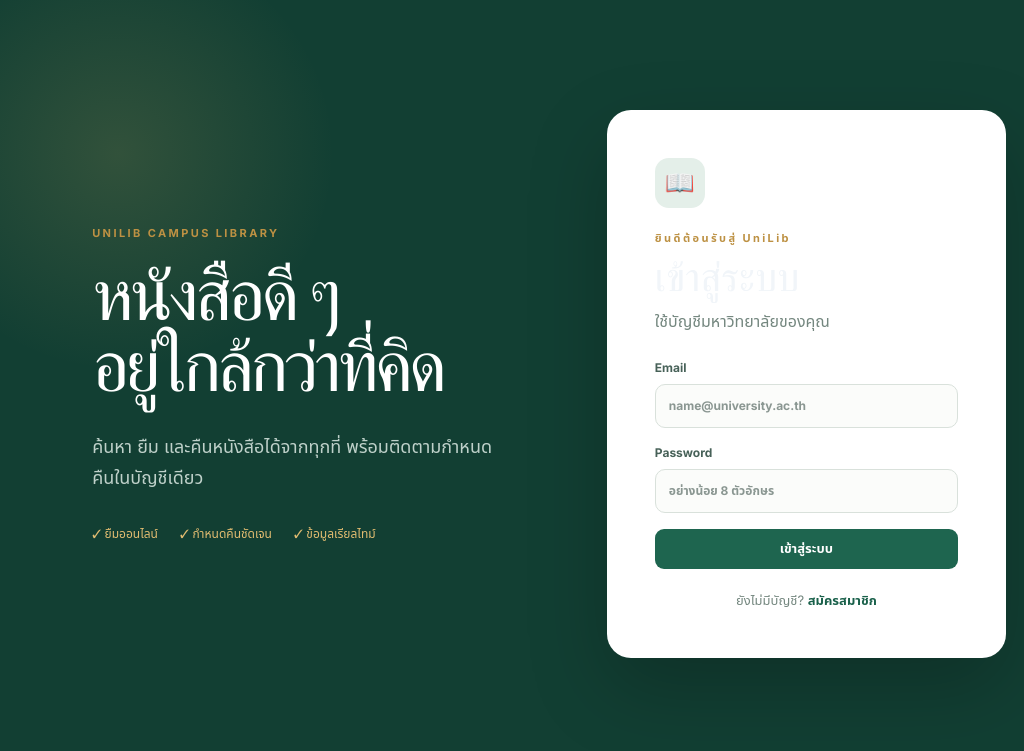
authenticated application › logs a student in and shows role-specific navigation
The width and height of the screenshot is (1024, 751).
Type "ada@uni.ac.th" into the field labelled "Email" at point(806, 406), box [655,384,958,428]
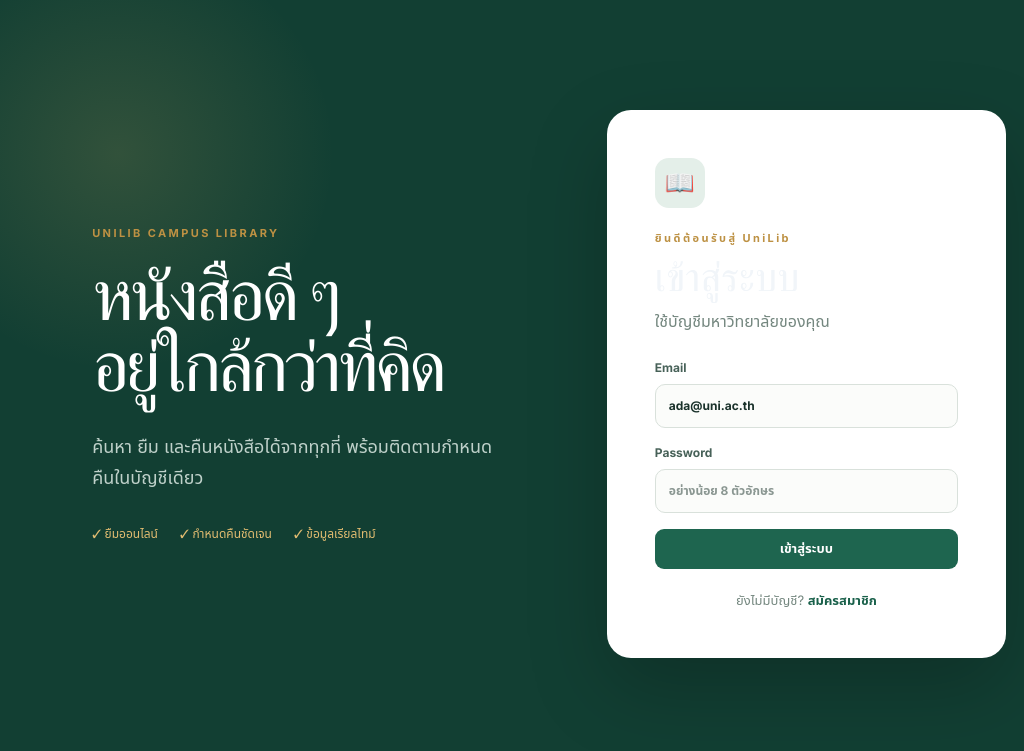
Type "Password123!" into the password field labelled "Password" at point(806, 491), box [655,469,958,513]
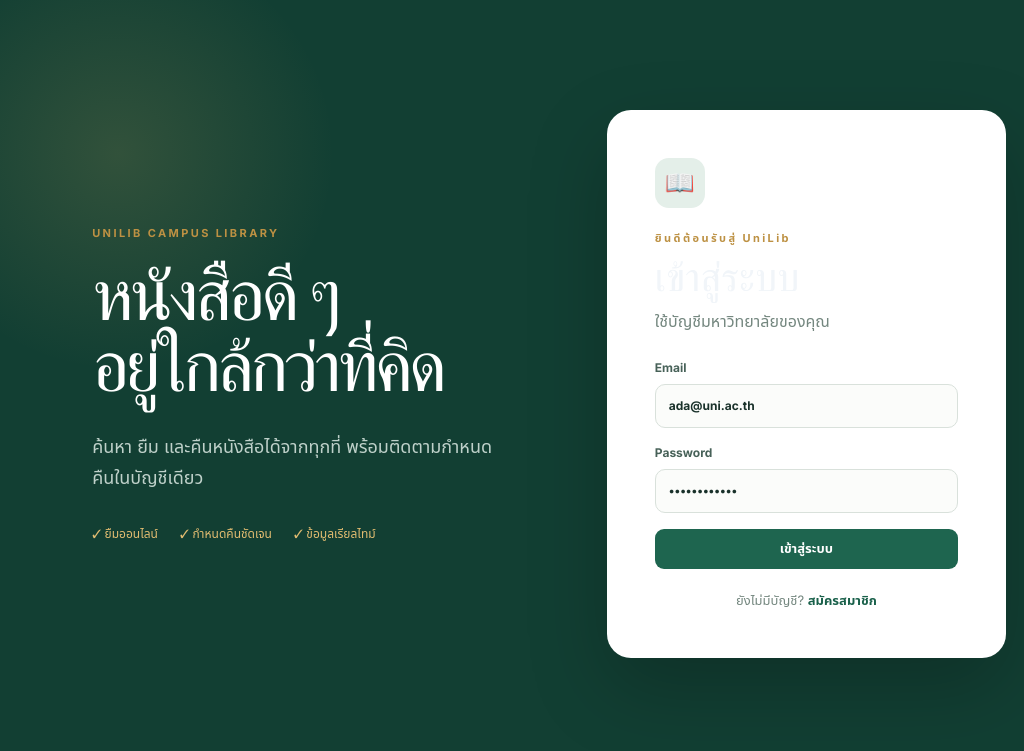
Click the button "เข้าสู่ระบบ" at point(806, 549), box [655,529,958,569]
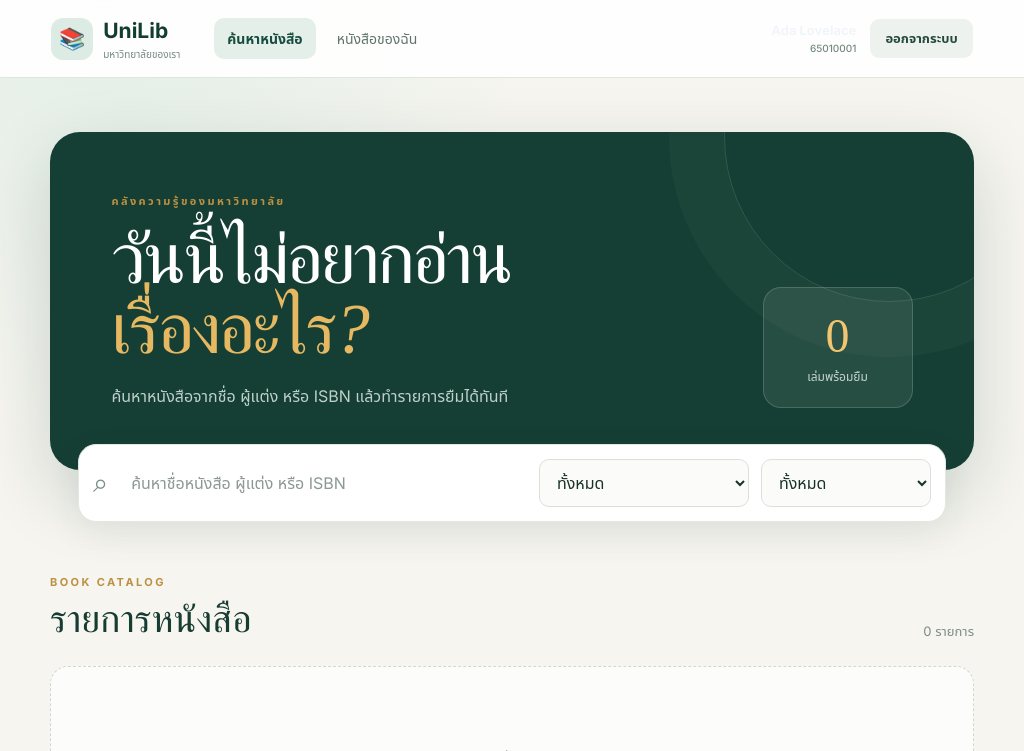
Expected: the link "หนังสือของฉัน" is shown, [337,30,417,47]
